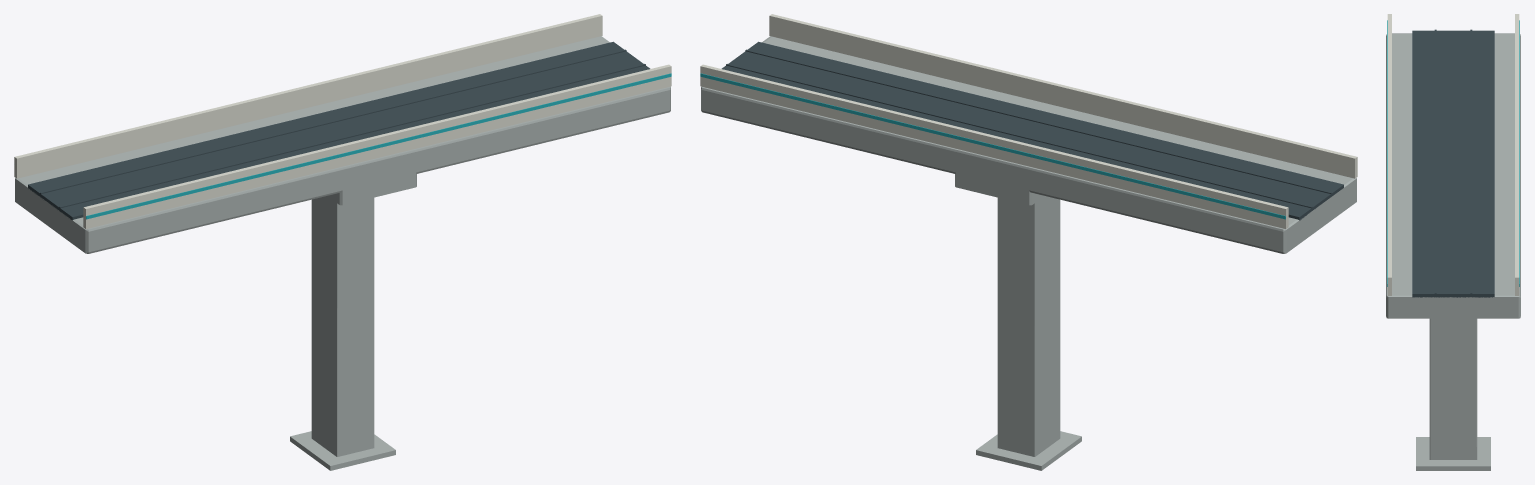
Rendered from MetroViaductSpan.glb.
3 views of the same model, side by side, from view 1: azimuth 30°, elevation 25°; view 2: azimuth 150°, elevation 25°; view 3: azimuth 270°, elevation 25° (orthographic). The views are drawn at different scales.
Parts seen in each view (by area): view 1: MetroViaductSpan_V8_Viaduct_Concrete, MetroViaductSpan_V8_Concrete_Ivory, MetroViaductSpan_V8_Roof_Graphite, MetroViaductSpan_V8_Transit_Teal; view 2: MetroViaductSpan_V8_Viaduct_Concrete, MetroViaductSpan_V8_Concrete_Ivory, MetroViaductSpan_V8_Roof_Graphite, MetroViaductSpan_V8_Transit_Teal; view 3: MetroViaductSpan_V8_Viaduct_Concrete, MetroViaductSpan_V8_Roof_Graphite, MetroViaductSpan_V8_Concrete_Ivory, MetroViaductSpan_V8_Transit_Teal.
Boxes of the visible parts, x1=… form: MetroViaductSpan_V8_Viaduct_Concrete: x1=15, y1=36, x2=670, y2=470; MetroViaductSpan_V8_Concrete_Ivory: x1=14, y1=14, x2=671, y2=228; MetroViaductSpan_V8_Roof_Graphite: x1=28, y1=41, x2=650, y2=220; MetroViaductSpan_V8_Transit_Teal: x1=86, y1=73, x2=671, y2=219; MetroViaductSpan_V8_Viaduct_Concrete: x1=701, y1=36, x2=1356, y2=470; MetroViaductSpan_V8_Concrete_Ivory: x1=700, y1=14, x2=1357, y2=228; MetroViaductSpan_V8_Roof_Graphite: x1=721, y1=41, x2=1343, y2=220; MetroViaductSpan_V8_Transit_Teal: x1=700, y1=73, x2=1285, y2=219; MetroViaductSpan_V8_Viaduct_Concrete: x1=1386, y1=33, x2=1520, y2=470; MetroViaductSpan_V8_Roof_Graphite: x1=1412, y1=29, x2=1494, y2=297; MetroViaductSpan_V8_Concrete_Ivory: x1=1387, y1=14, x2=1519, y2=295; MetroViaductSpan_V8_Transit_Teal: x1=1387, y1=20, x2=1519, y2=286.
Bounding box in the file's own units: 25 × 13.73 × 5.4.
